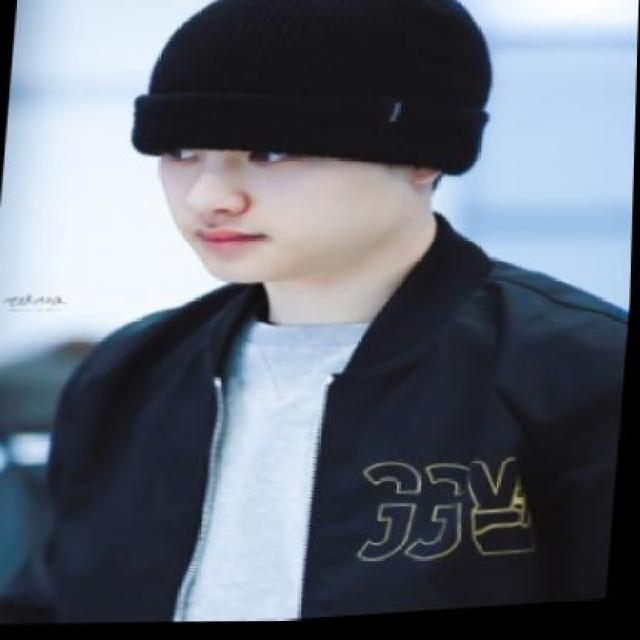hat: (120, 0, 511, 200)
